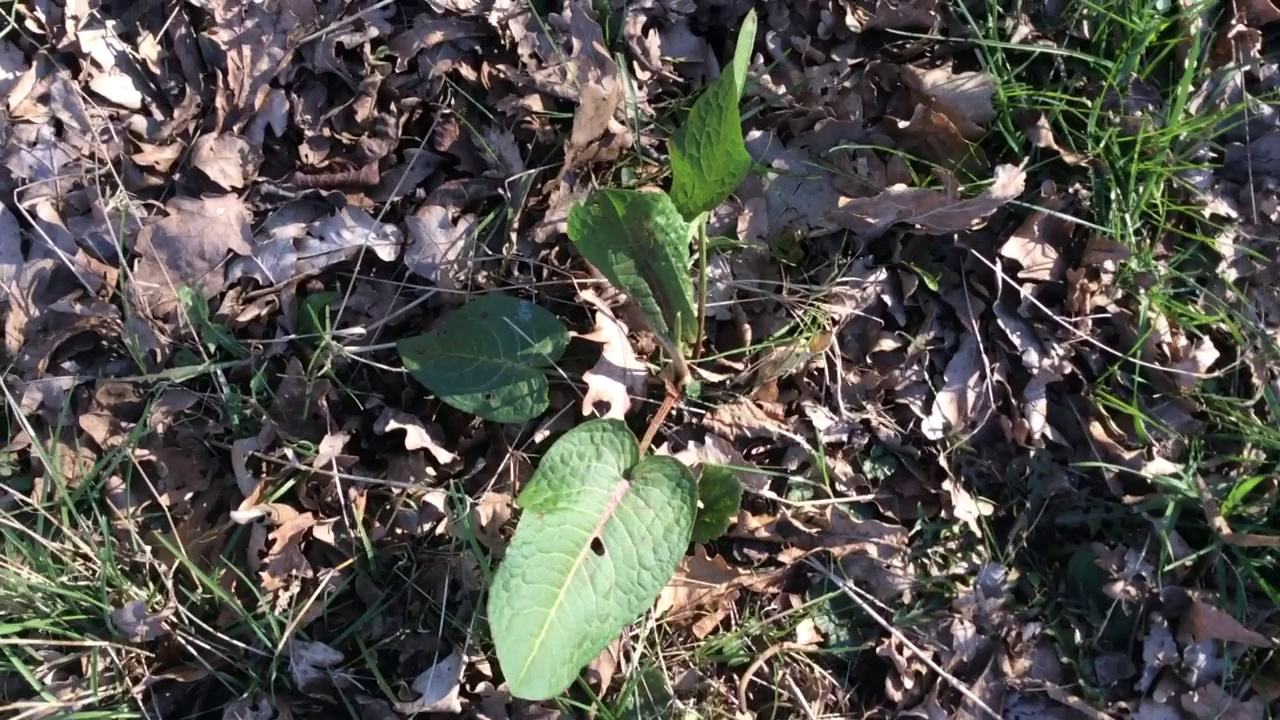rumex: (394, 9, 757, 702)
